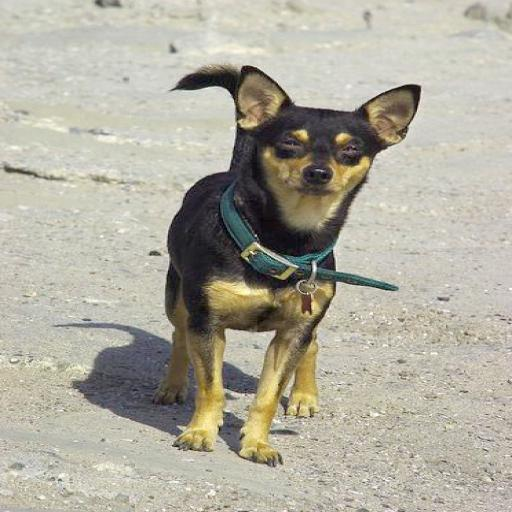dog_face: (186, 57, 426, 227)
